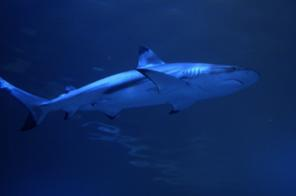Shark -Selachimorpha-: (0, 44, 264, 134)
